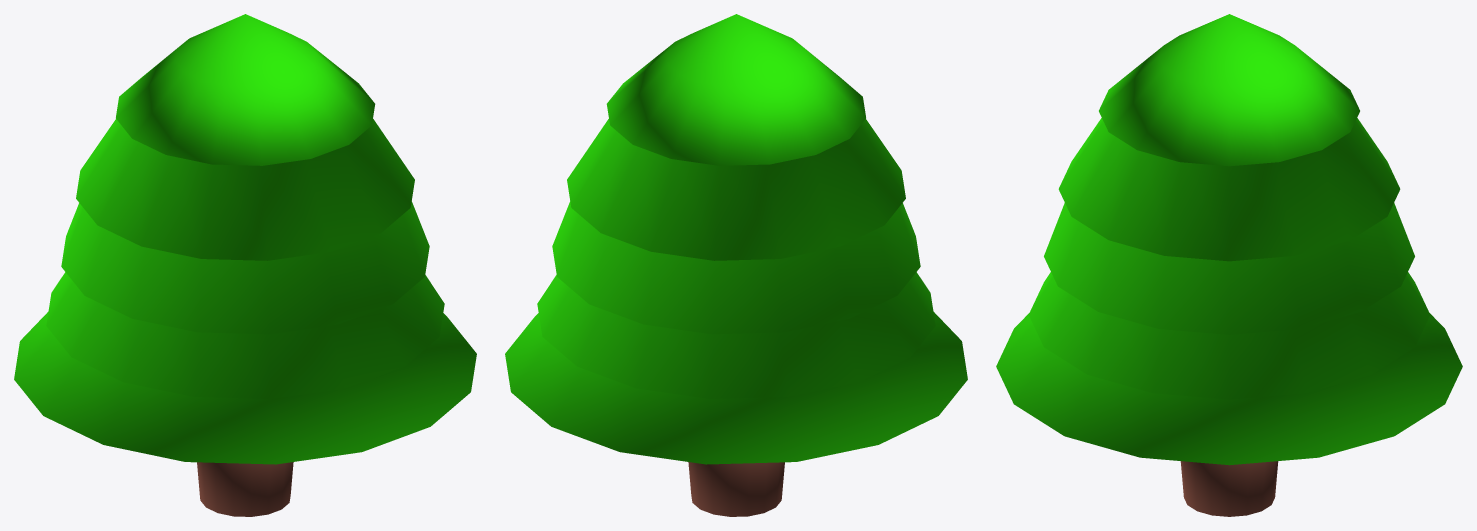
File: arbre.glb
3 renders of one model, left to right at view 1: azimuth 30°, elevation 25°; view 2: azimuth 150°, elevation 25°; view 3: azimuth 270°, elevation 25°, orthographic.
Parts seen in each view (by area): view 1: Cylinder; view 2: Cylinder; view 3: Cylinder.
Part boxes in pixels (x1=…): Cylinder: x1=14, y1=14, x2=476, y2=516; Cylinder: x1=505, y1=14, x2=967, y2=516; Cylinder: x1=996, y1=14, x2=1462, y2=516.
Size of the model in its own units: 1.53 by 1.75 by 1.53.
